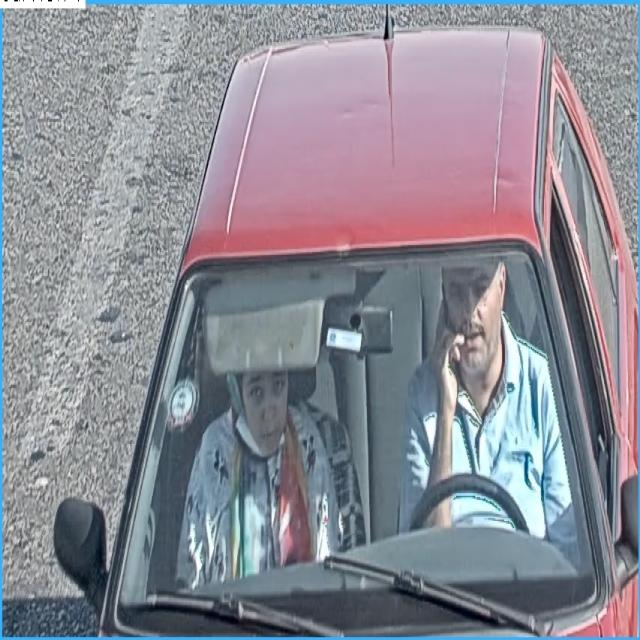windshield: (110, 258, 596, 612)
